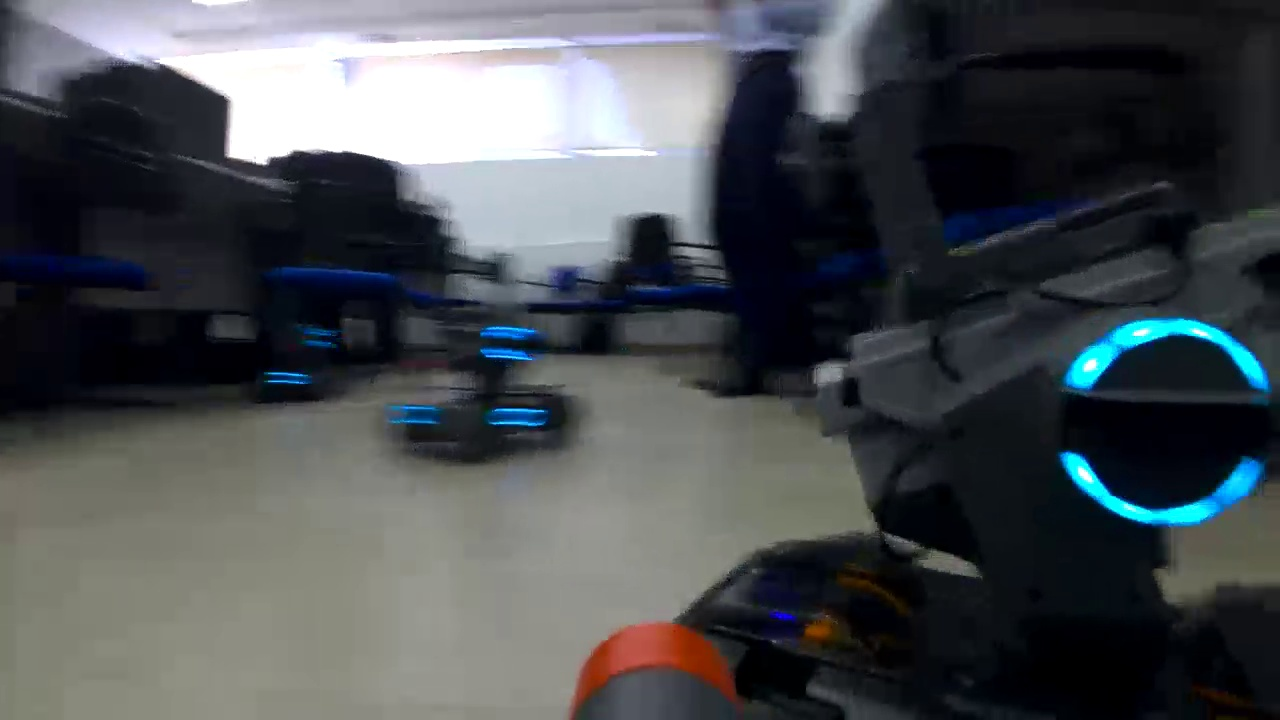robot: (672, 1, 1280, 720), (382, 308, 572, 462), (251, 298, 341, 405)
